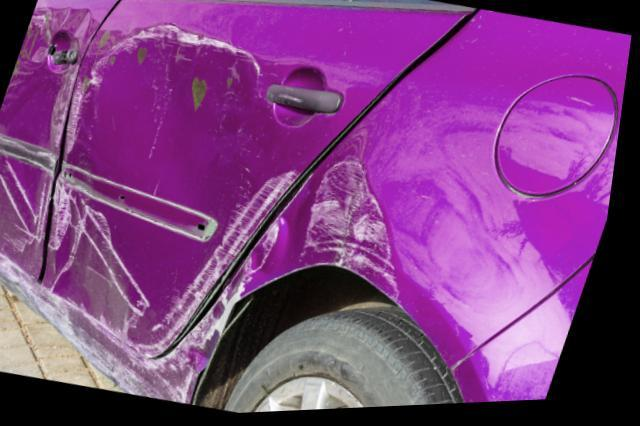dent: (80, 31, 282, 345)
scratch: (0, 250, 246, 406), (245, 135, 406, 300), (46, 77, 95, 293), (0, 119, 53, 258)
